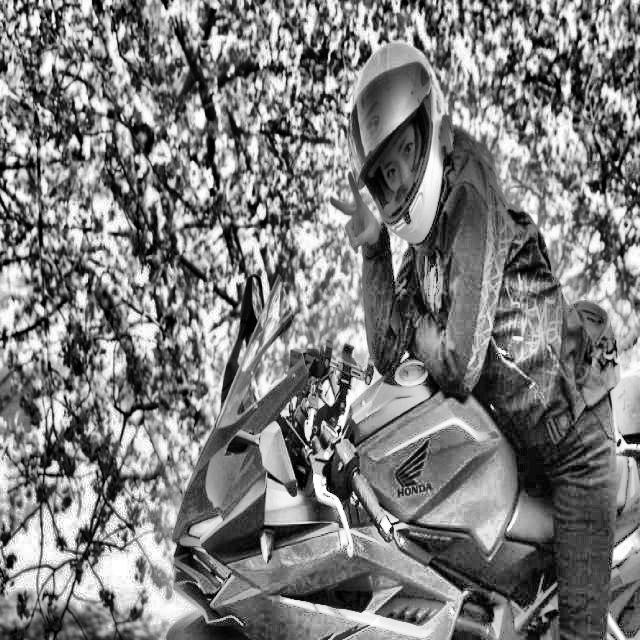Helmet: (341, 35, 448, 256)
